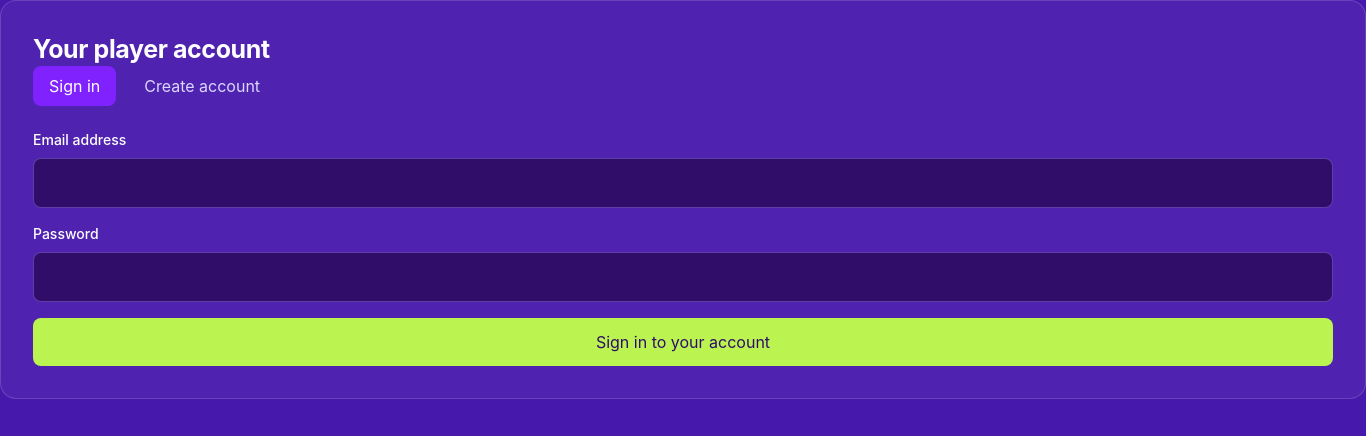
account panel › explains a rejected CSRF cookie instead of reporting an expired session
This screenshot has width=1366, height=436.
Check: the button "Sign in to your account" is shown, box [33,318,1333,366]
Type "player@example.test" into the field labelled "Email address" at (683, 182), box [33,158,1333,208]
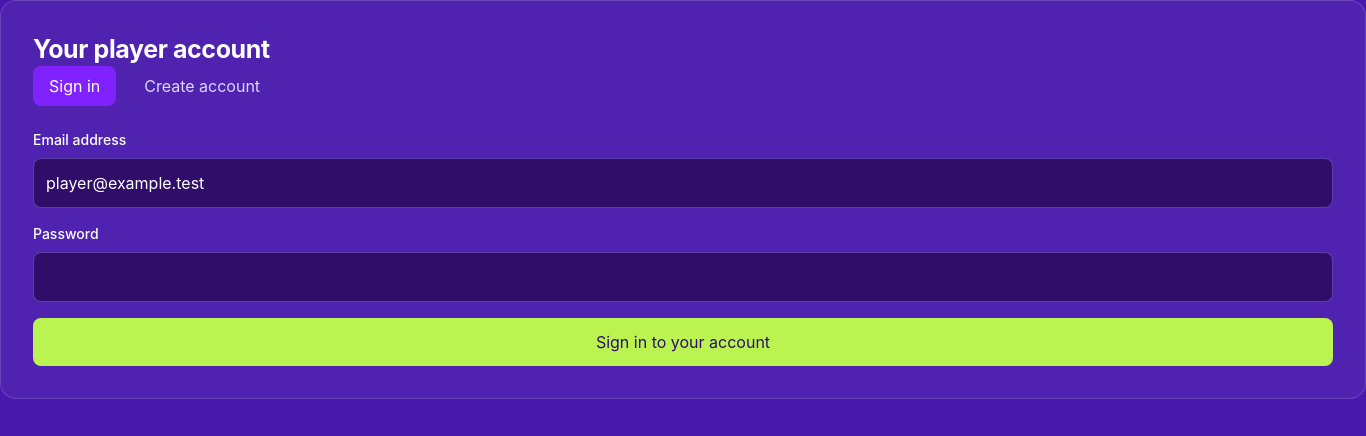
Type "a-long-demo-password" into the password field labelled "Password" at (683, 276), box [33,252,1333,302]
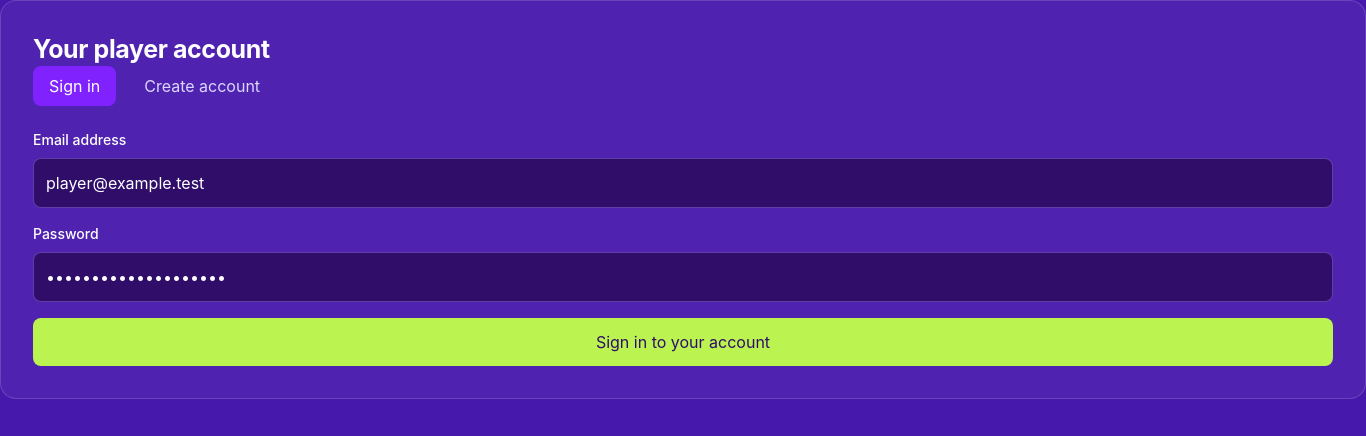
Click the button "Sign in to your account" at (683, 342), box [33,318,1333,366]
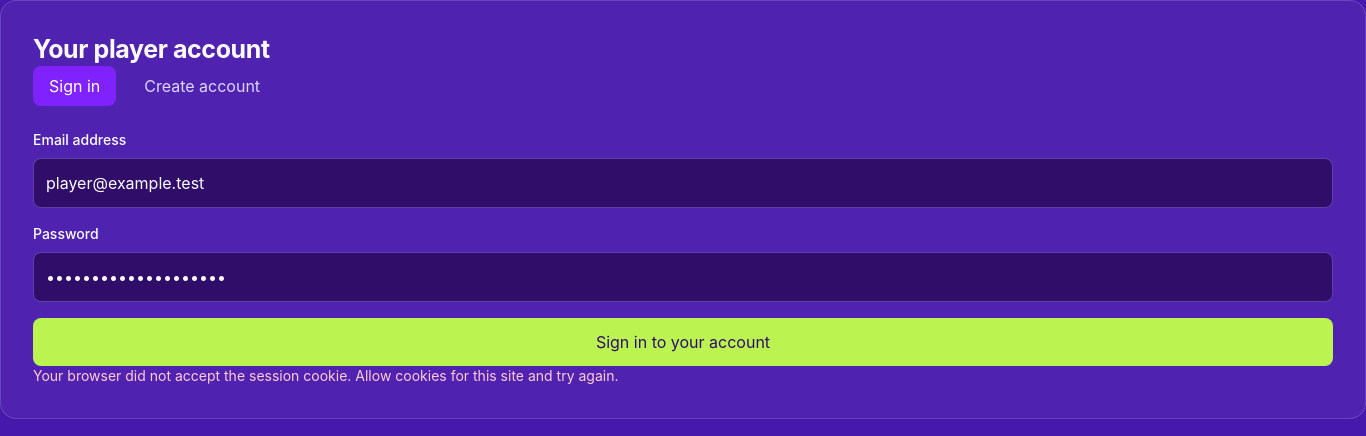
Check: the message does not show "Your session has expired", box [33,366,618,384]
Check: the message shows "Your browser did not accept the session cookie.", box [33,366,618,384]
